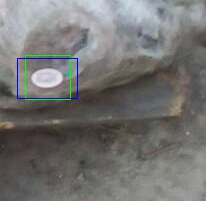text: (25, 55, 70, 99)
